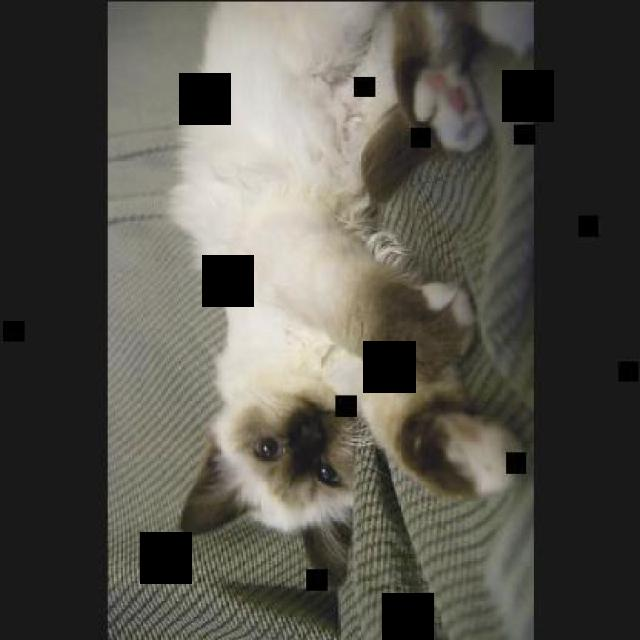unauthorized: (166, 0, 529, 569), (341, 0, 534, 454)
